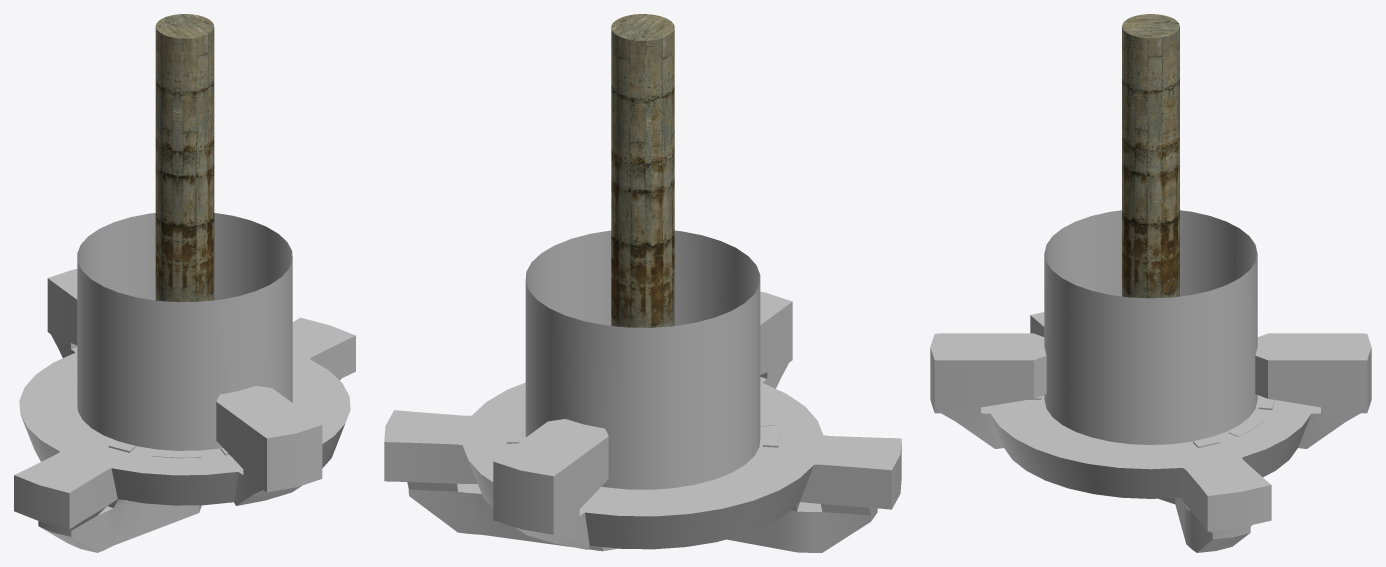
File: SM_LevelTest03_Block01.fbx
3 views of the same model, side by side, from view 1: azimuth 30°, elevation 25°; view 2: azimuth 150°, elevation 25°; view 3: azimuth 270°, elevation 25° (orthographic). The views are drawn at different scales.
Parts seen in each view (by area): view 1: SM_LevelTest03_Block01; view 2: SM_LevelTest03_Block01; view 3: SM_LevelTest03_Block01.
Boxes of the visible parts, left/top/right/bottom form: SM_LevelTest03_Block01: left=14, top=14, right=355, bottom=552; SM_LevelTest03_Block01: left=384, top=14, right=901, bottom=552; SM_LevelTest03_Block01: left=930, top=14, right=1371, bottom=552.
Size of the model in its own units: 5596 by 6227 by 5430.
